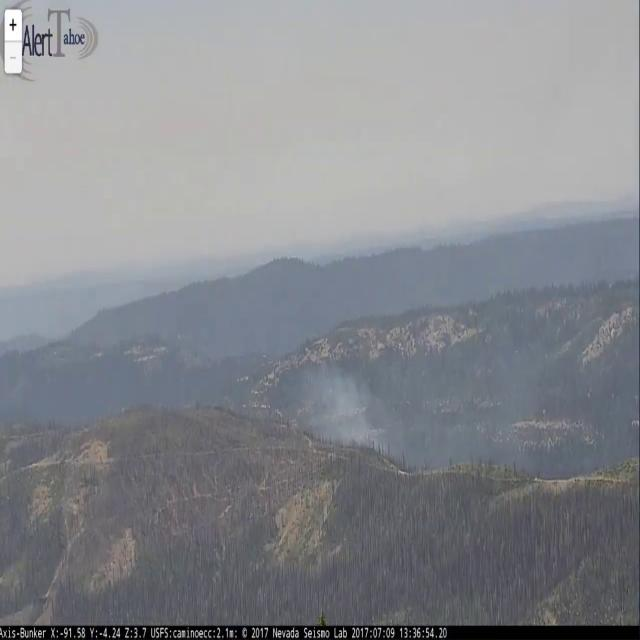smoke: (292, 319, 398, 465)
